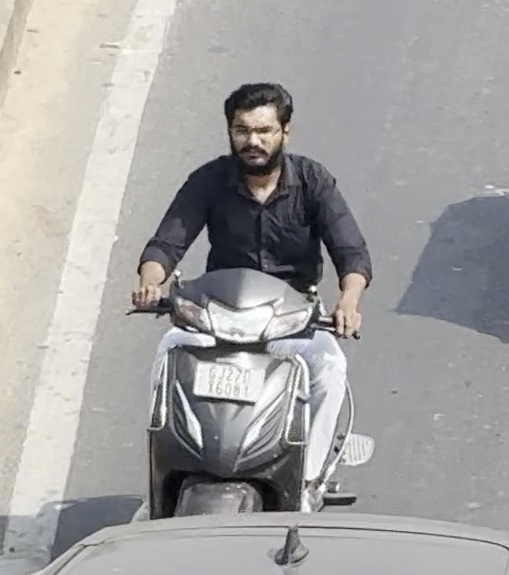BikeWithRider: (122, 77, 377, 526)
NoHelmet: (221, 80, 294, 179)
